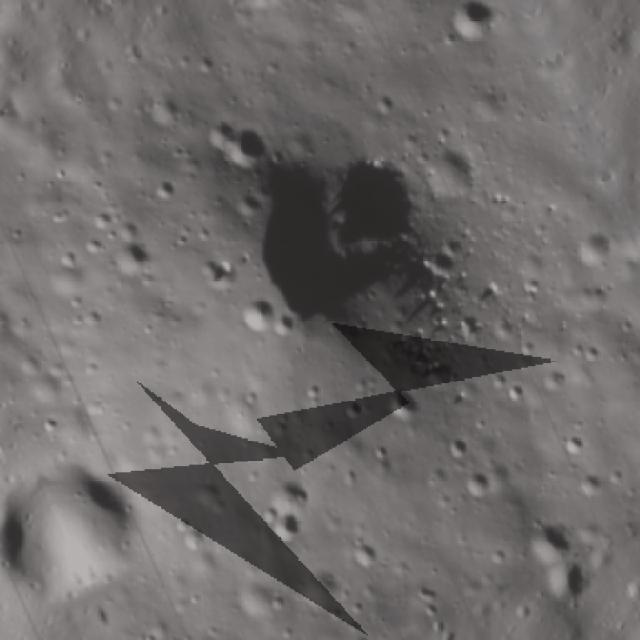crater: (289, 124, 443, 276), (194, 102, 278, 185), (286, 557, 349, 618), (437, 0, 508, 54), (518, 514, 579, 574), (100, 236, 158, 286), (230, 288, 284, 341), (566, 224, 620, 276), (140, 86, 188, 136), (566, 461, 612, 507), (452, 464, 500, 508), (379, 379, 423, 423), (342, 530, 383, 576), (188, 479, 229, 521), (169, 516, 208, 556), (266, 512, 308, 548), (405, 574, 447, 609), (144, 169, 181, 208), (187, 46, 224, 82), (490, 374, 528, 409), (478, 537, 514, 572), (535, 363, 571, 397), (436, 432, 472, 465), (77, 301, 109, 336), (555, 432, 590, 463), (368, 436, 398, 470), (260, 582, 288, 615), (50, 247, 79, 276), (338, 396, 368, 424), (255, 499, 283, 528), (36, 414, 62, 438), (418, 602, 445, 623), (138, 624, 164, 640), (344, 629, 371, 640)
